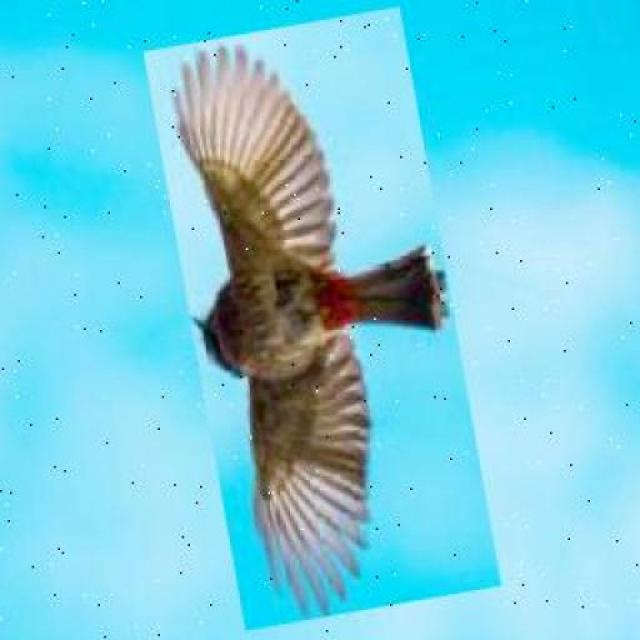airplane: (142, 6, 502, 630)
